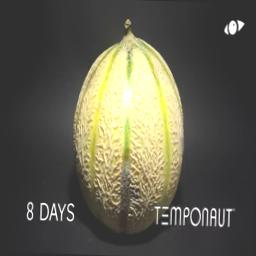Melon Ripe: (65, 16, 191, 230)
